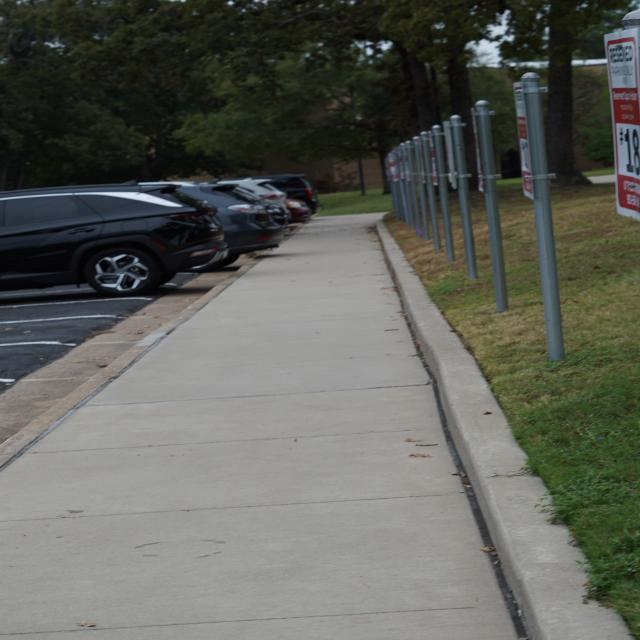Automobile: (0, 183, 228, 297), (176, 182, 286, 269), (251, 174, 322, 215), (220, 179, 287, 209), (286, 199, 312, 223)
Road: (0, 258, 250, 443)
Sidewalk: (0, 214, 516, 640)
